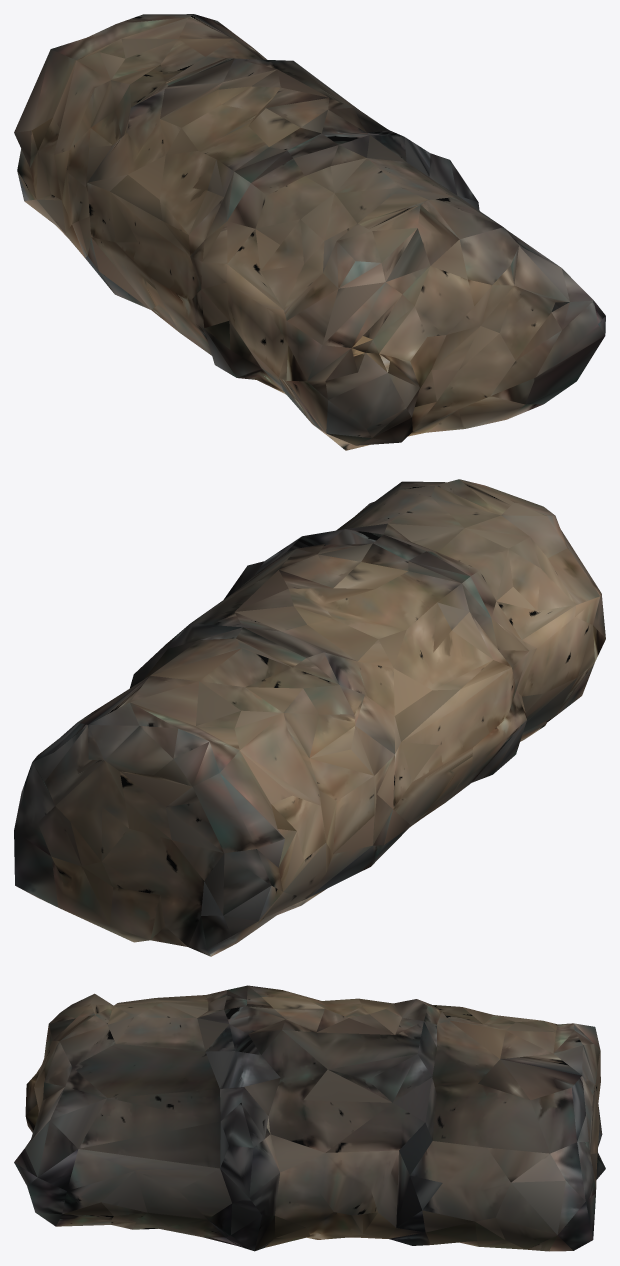
The model's file is heroin.glb.
3 renders of one model, top to bottom at view 1: azimuth 30°, elevation 25°; view 2: azimuth 150°, elevation 25°; view 3: azimuth 270°, elevation 25°, orthographic. The views are drawn at different scales.
Visible parts, largest first — view 1: Heroin Package; view 2: Heroin Package; view 3: Heroin Package.
Boxes of the visible parts, x1,y1,x2,y2 form: Heroin Package: (14, 14, 605, 450); Heroin Package: (14, 479, 605, 956); Heroin Package: (14, 985, 605, 1251).
Bounding box in the file's own units: 0.4835 × 0.3954 × 0.9985.
1 material, 1 textured.
